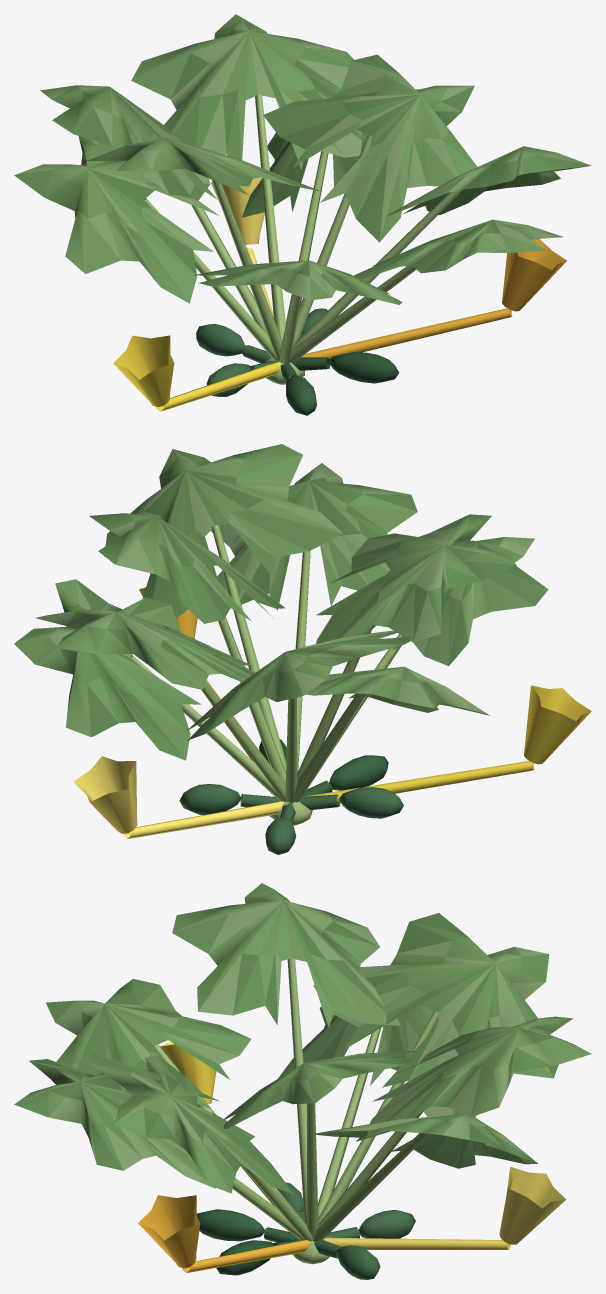
Rendered from courgette_verte_fruits.glb.
3 renders of one model, top to bottom at view 1: azimuth 30°, elevation 25°; view 2: azimuth 150°, elevation 25°; view 3: azimuth 270°, elevation 25°, orthographic. The views are drawn at different scales.
Visible parts, largest first — view 1: Courgette_Feuilles, Courgette_Petioles, Courgette_Fleurs, Courgette_Fruits; view 2: Courgette_Feuilles, Courgette_Fleurs, Courgette_Petioles, Courgette_Fruits; view 3: Courgette_Feuilles, Courgette_Fleurs, Courgette_Petioles, Courgette_Fruits.
Part boxes in pixels (box(x1,y1,x2,y2)): Courgette_Feuilles: box(14, 14, 591, 304); Courgette_Petioles: box(144, 94, 462, 363); Courgette_Fleurs: box(113, 178, 566, 411); Courgette_Fruits: box(196, 308, 399, 415); Courgette_Feuilles: box(14, 444, 548, 760); Courgette_Fleurs: box(73, 587, 591, 838); Courgette_Petioles: box(130, 525, 401, 802); Courgette_Fruits: box(179, 739, 403, 854); Courgette_Feuilles: box(14, 883, 591, 1194); Courgette_Fleurs: box(138, 1042, 566, 1272); Courgette_Petioles: box(154, 958, 438, 1241); Courgette_Fruits: box(196, 1182, 415, 1279).
Size of the model in its own units: 0.8014 by 0.4893 by 0.8718.
